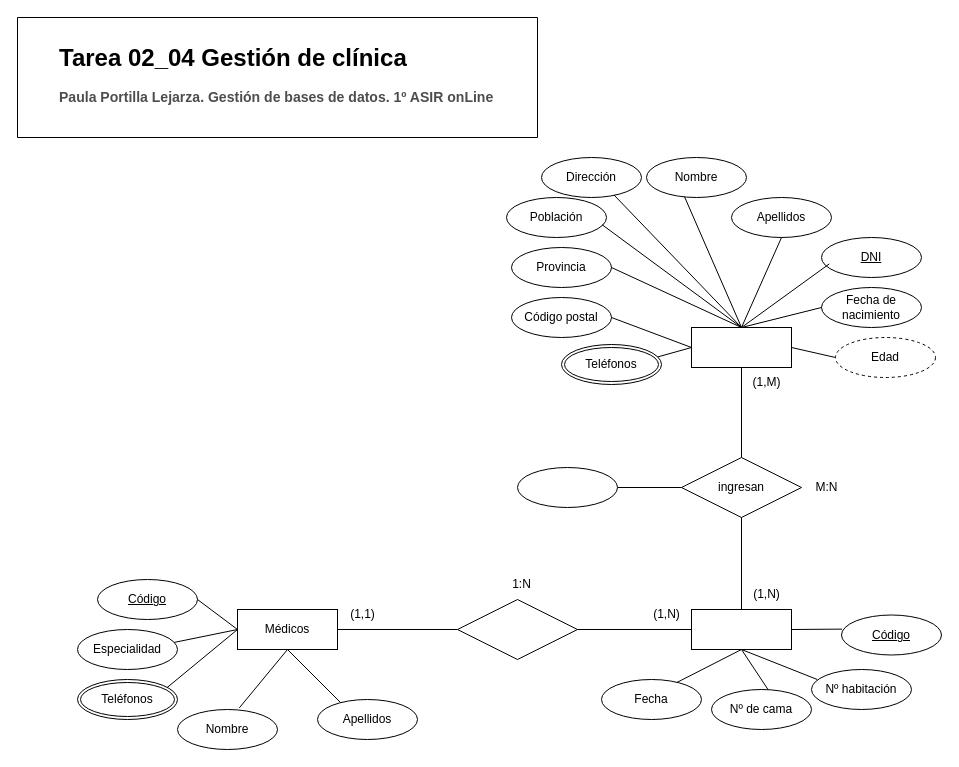
This 959x767 diagram has some shape labels left out. The centre of each missing label's shape, as x and y in pixels:
atienden: the point at 517,629
Ingresos: the point at 741,629
Nº ingresos: the point at 567,487
Pacientes: the point at 741,347
